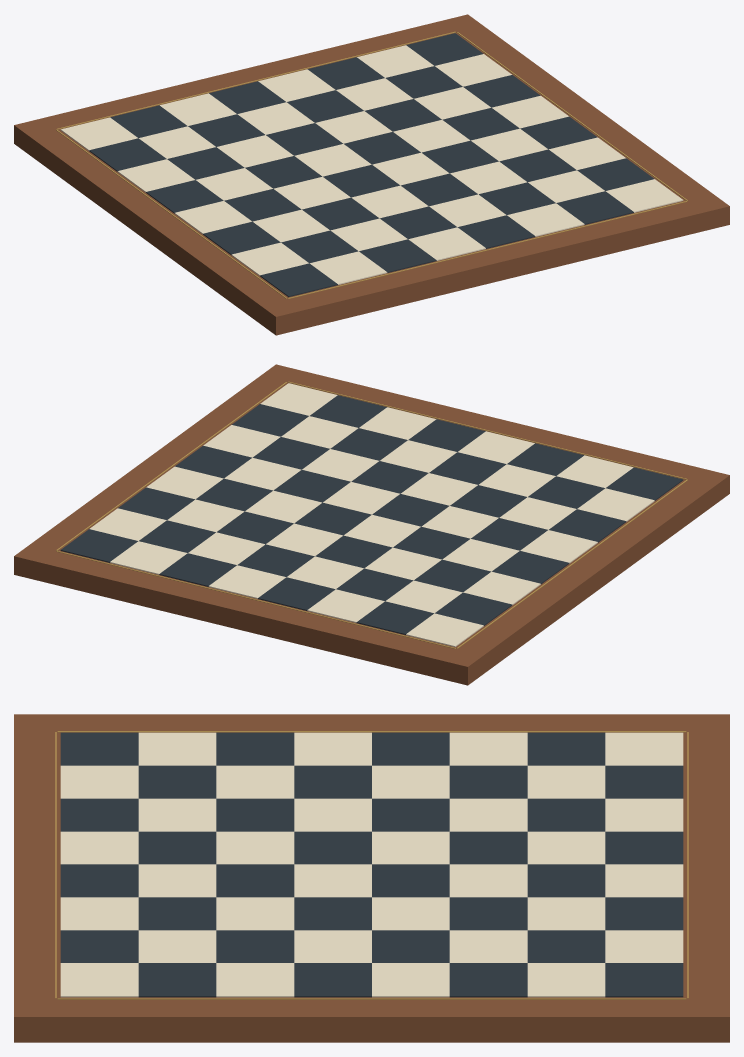
File: board.glb
3 renders of one model, top to bottom at view 1: azimuth 30°, elevation 25°; view 2: azimuth 150°, elevation 25°; view 3: azimuth 270°, elevation 25°, orthographic. The views are drawn at different scales.
Visible parts, largest first — view 1: board; view 2: board; view 3: board.
Boxes of the visible parts, <box> form: board: <box>14,14,729,335</box>; board: <box>14,364,729,685</box>; board: <box>14,714,729,1042</box>.
Bounding box in the file's own units: 0.46 × 0.019 × 0.46.
